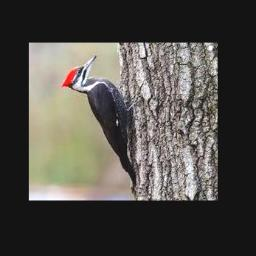Woodpecker: (60, 54, 139, 192)
